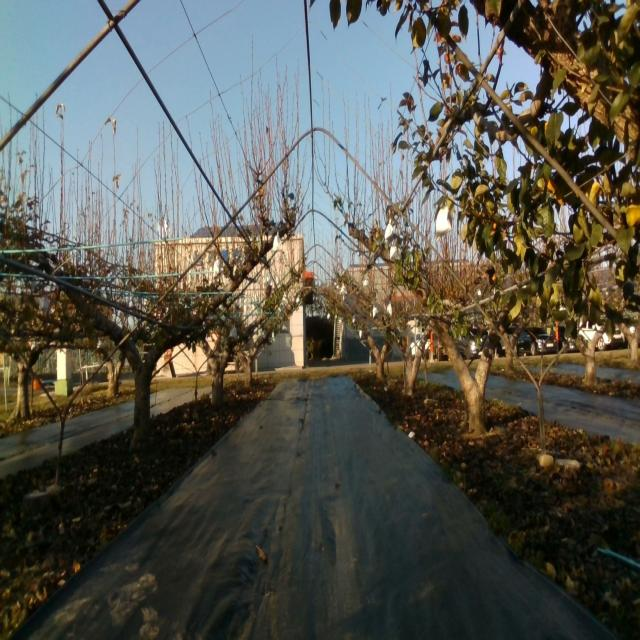pearbags: (435, 208, 452, 242), (389, 240, 401, 262), (272, 230, 283, 253), (213, 256, 224, 278), (384, 218, 394, 242)
